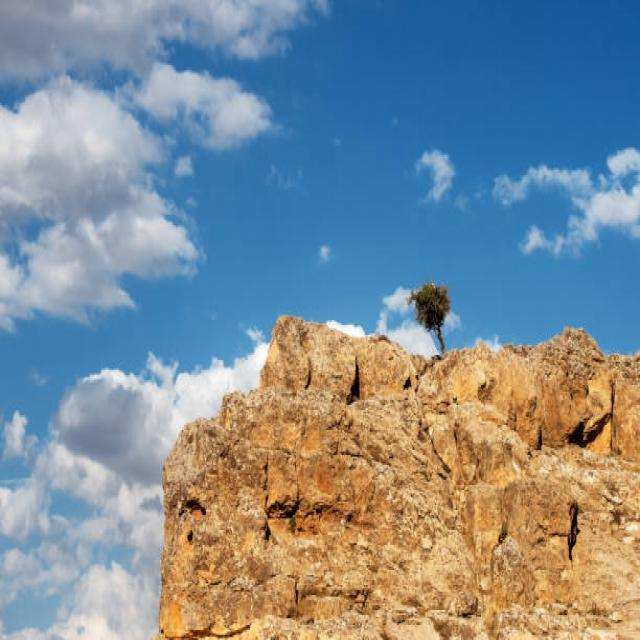tree: (410, 281, 458, 355)
